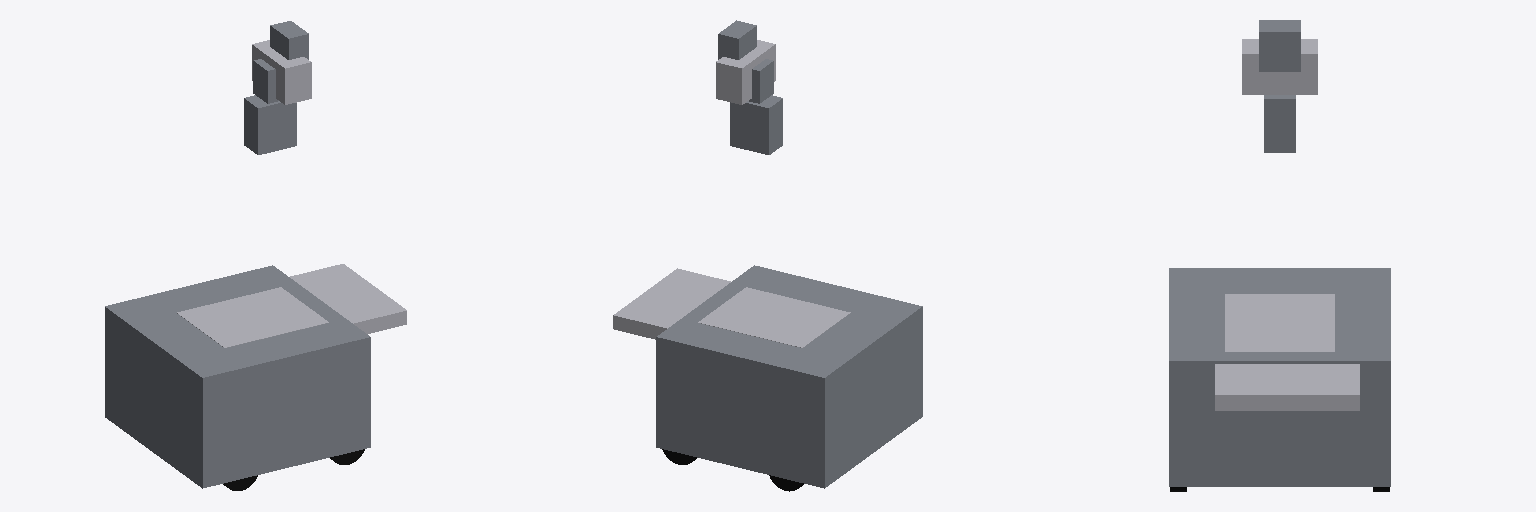
The robot description file, URDF, robot "opendubs":
<?xml version="1.0"?>
<!-- GENERATED by description/opendubs/gen_urdf.py from dimensions.yaml. Do not edit:
     change dimensions.yaml and re-run the generator.
     Head assembly fitted: galaxy_tablet; Femto mount: tilt30.
     base_link: centre of the wheel rectangle, axle height (workplan-thor-stack L.1).
     Movable joints zaxis / head_pan / head_tilt need a joint_states source.
     LEFT OUT (no CAD or measured position in the repo yet):
       - pinpoint_link (pinpoint)
       - tablet_front_camera_link (galaxy_tablet)
       - tablet_front_camera_optical_frame (follows tablet_front_camera_link)
       - tablet_rear_camera_link (galaxy_tablet)
       - tablet_rear_camera_optical_frame (follows tablet_rear_camera_link)
       - tablet_gps_link (galaxy_tablet)
       - tablet_imu_link (galaxy_tablet) -->
<robot name="opendubs">
  <material name="frame"><color rgba="0.55 0.57 0.6 1"/></material>
  <material name="plate"><color rgba="0.75 0.75 0.78 1"/></material>
  <material name="rubber"><color rgba="0.1 0.1 0.1 1"/></material>
  <link name="base_link"/>
  <link name="base_footprint"/>
  <joint name="base_footprint_joint" type="fixed">
    <parent link="base_link"/>
    <child link="base_footprint"/>
    <origin xyz="0 0 -0.07" rpy="0 0 0"/>
  </joint>
  <link name="datum">
    <visual>
      <origin xyz="0.29 0 0.154" rpy="0 0 0"/>
      <geometry><box size="0.644 0.649 0.404"/></geometry>
      <material name="frame"/>
    </visual>
    <visual>
      <origin xyz="0.713 0.022 0.322305" rpy="0 0 0"/>
      <geometry><box size="0.232 0.424 0.0515"/></geometry>
      <material name="plate"/>
    </visual>
  </link>
  <joint name="datum_joint" type="fixed">
    <parent link="base_link"/>
    <child link="datum"/>
    <origin xyz="-0.324 0 0.024" rpy="0 0 0"/>
  </joint>
  <link name="wheel_fl">
    <visual>
      <origin xyz="0 0 0" rpy="1.570796 0 0"/>
      <geometry><cylinder radius="0.07" length="0.05"/></geometry>
      <material name="rubber"/>
    </visual>
  </link>
  <joint name="wheel_fl_joint" type="fixed">
    <parent link="datum"/>
    <child link="wheel_fl"/>
    <origin xyz="0.528 0.2945 -0.024" rpy="0 0 0"/>
  </joint>
  <link name="wheel_fr">
    <visual>
      <origin xyz="0 0 0" rpy="1.570796 0 0"/>
      <geometry><cylinder radius="0.07" length="0.05"/></geometry>
      <material name="rubber"/>
    </visual>
  </link>
  <joint name="wheel_fr_joint" type="fixed">
    <parent link="datum"/>
    <child link="wheel_fr"/>
    <origin xyz="0.528 -0.2945 -0.024" rpy="0 0 0"/>
  </joint>
  <link name="wheel_rl">
    <visual>
      <origin xyz="0 0 0" rpy="1.570796 0 0"/>
      <geometry><cylinder radius="0.07" length="0.05"/></geometry>
      <material name="rubber"/>
    </visual>
  </link>
  <joint name="wheel_rl_joint" type="fixed">
    <parent link="datum"/>
    <child link="wheel_rl"/>
    <origin xyz="0.12 0.2945 -0.024" rpy="0 0 0"/>
  </joint>
  <link name="wheel_rr">
    <visual>
      <origin xyz="0 0 0" rpy="1.570796 0 0"/>
      <geometry><cylinder radius="0.07" length="0.05"/></geometry>
      <material name="rubber"/>
    </visual>
  </link>
  <joint name="wheel_rr_joint" type="fixed">
    <parent link="datum"/>
    <child link="wheel_rr"/>
    <origin xyz="0.12 -0.2945 -0.024" rpy="0 0 0"/>
  </joint>
  <link name="laser"/>
  <joint name="laser_joint" type="fixed">
    <parent link="datum"/>
    <child link="laser"/>
    <origin xyz="0.55438 0 0.2413" rpy="0 0 3.141593"/>
  </joint>
  <link name="laser_rear"/>
  <joint name="laser_rear_joint" type="fixed">
    <parent link="datum"/>
    <child link="laser_rear"/>
    <origin xyz="-0.199578 0 0.2413" rpy="0 0 0"/>
  </joint>
  <link name="lift_platform">
    <visual>
      <origin xyz="0.348 0 0.3571" rpy="0 0 0"/>
      <geometry><box size="0.4 0.32 0.001"/></geometry>
      <material name="plate"/>
    </visual>
    <visual>
      <origin xyz="0.4147 0 1.055875" rpy="0 0 0"/>
      <geometry><box size="0.14778 0.094 0.172"/></geometry>
      <material name="frame"/>
    </visual>
  </link>
  <joint name="zaxis" type="prismatic">
    <parent link="datum"/>
    <child link="lift_platform"/>
    <origin xyz="0 0 0" rpy="0 0 0"/>
    <axis xyz="0 0 1"/>
    <limit lower="0" upper="0.2751" effort="0" velocity="0"/>
  </joint>
  <link name="arm_mount"/>
  <joint name="arm_mount_joint" type="fixed">
    <parent link="lift_platform"/>
    <child link="arm_mount"/>
    <origin xyz="0.423 0 0.3575" rpy="0 0 0"/>
  </joint>
  <link name="head_pan_link">
    <visual>
      <origin xyz="-0.01 0 -0.0357" rpy="0 0 0"/>
      <geometry><box size="0.072 0.095 0.12"/></geometry>
      <material name="frame"/>
    </visual>
  </link>
  <joint name="head_pan" type="revolute">
    <parent link="lift_platform"/>
    <child link="head_pan_link"/>
    <origin xyz="0.423 0 1.245575" rpy="0 0 0"/>
    <axis xyz="0 0 1"/>
    <limit lower="-2.617994" upper="2.617994" effort="0" velocity="0"/>
  </joint>
  <link name="head_tilt_link">
    <visual>
      <origin xyz="0.03494 0 -0.015" rpy="0 0 0"/>
      <geometry><box size="0.10162 0.221 0.134"/></geometry>
      <material name="plate"/>
    </visual>
  </link>
  <joint name="head_tilt" type="revolute">
    <parent link="head_pan_link"/>
    <child link="head_tilt_link"/>
    <origin xyz="0 0 0" rpy="0 0 0"/>
    <axis xyz="0 1 0"/>
    <limit lower="-1.636246" upper="0.274889" effort="0" velocity="0"/>
  </joint>
  <link name="head_screen_link"/>
  <joint name="head_screen_link_joint" type="fixed">
    <parent link="head_tilt_link"/>
    <child link="head_screen_link"/>
    <origin xyz="0.0828 -0.00035 -0.01515" rpy="0 0 0"/>
  </joint>
  <link name="femto_mount_link">
    <visual>
      <origin xyz="0.00983 0 0.014455" rpy="0 0 0"/>
      <geometry><box size="0.07844 0.1211 0.12829"/></geometry>
      <material name="frame"/>
    </visual>
  </link>
  <joint name="femto_mount_link_joint" type="fixed">
    <parent link="head_tilt_link"/>
    <child link="femto_mount_link"/>
    <origin xyz="0.05575 0 0.052" rpy="0 0 0"/>
  </joint>
  <link name="camera_link"/>
  <joint name="camera_link_joint" type="fixed">
    <parent link="femto_mount_link"/>
    <child link="camera_link"/>
    <origin xyz="0.039004 -0.03 0.025341" rpy="0 0.628319 0"/>
  </joint>
</robot>

--- Facts derived from the render (not from the file) ---
3 views of the same robot in one strip: view 1: azimuth 30°, elevation 25°; view 2: azimuth 150°, elevation 25°; view 3: azimuth 270°, elevation 25° (orthographic).
Robot: opendubs — 16 links, 15 joints (2 revolute, 1 prismatic, 12 fixed); root link base_link; default pose: every joint at zero.
Visible links, largest first — view 1: datum, lift_platform, head_tilt_link, femto_mount_link, head_pan_link; view 2: datum, lift_platform, head_tilt_link, femto_mount_link, head_pan_link; view 3: datum, lift_platform, head_tilt_link, femto_mount_link.
Boxes of the visible links, left/top/right/bottom form: datum: left=105, top=264, right=406, bottom=488; lift_platform: left=177, top=95, right=328, bottom=347; head_tilt_link: left=252, top=40, right=311, bottom=104; femto_mount_link: left=270, top=21, right=308, bottom=59; head_pan_link: left=253, top=59, right=278, bottom=103; datum: left=613, top=265, right=922, bottom=488; lift_platform: left=698, top=95, right=850, bottom=347; head_tilt_link: left=716, top=40, right=775, bottom=104; femto_mount_link: left=718, top=20, right=756, bottom=59; head_pan_link: left=749, top=59, right=773, bottom=103; datum: left=1169, top=268, right=1390, bottom=486; lift_platform: left=1225, top=95, right=1334, bottom=351; head_tilt_link: left=1242, top=39, right=1317, bottom=94; femto_mount_link: left=1259, top=20, right=1300, bottom=71.
Bounding box of the posed robot: 0.861 × 0.649 × 1.47 m (x, y, z).
Geometry: primitives only (box / cylinder / sphere), no mesh files.
